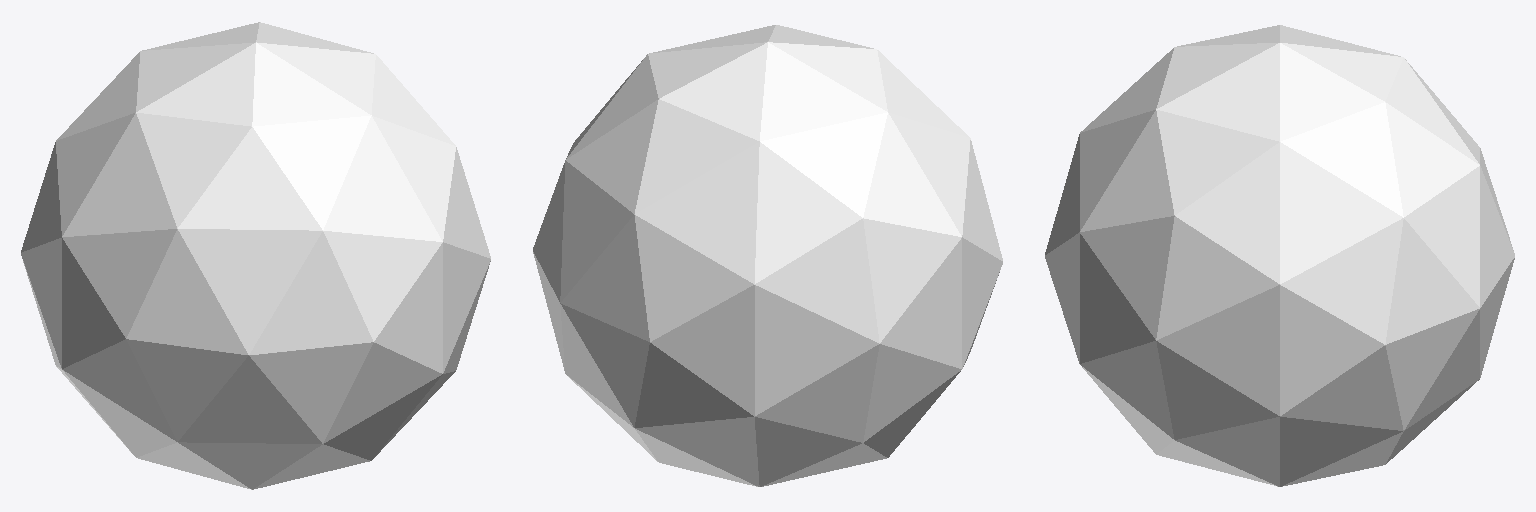
robot.urdf — ico_sphere1.urdf:
<?xml version="1.0" ?>
<robot name="ico_sphere1.urdf">
  <link name="baseLink">
    <contact>
    	<friction_anchor/>
    	   <lateral_friction value="0.5"/>
        <rolling_friction value="0.005"/>
        <spinning_friction value="0.005"/>
    </contact>
    <inertial>
      <origin rpy="0 0 0" xyz="0 0 0"/>
       <mass value="1"/>
       <inertia ixx="1" ixy="0" ixz="0" iyy="1.3" iyz="0" izz="0.5"/>
    </inertial>
    <visual>
      <origin rpy="0 0 0" xyz="0 0 0"/>
      <geometry>
	<mesh filename="ico_sphere.obj" scale="1 1 1"/>
      </geometry>
       <material name="white">
        <color rgba="1 1 1 1"/>
      </material>
    </visual>
    <collision>
      <origin rpy="0 0 0" xyz="0 0 0"/>
      <geometry>
	 <mesh filename="ico_sphere.obj" scale="1 1 1"/>
      </geometry>
    </collision>
  </link>
</robot>

--- What the picture shows (computed from the rendered views, not written in the file) ---
The picture shows the robot from 3 angles, left to right: view 1: azimuth 30°, elevation 25°; view 2: azimuth 150°, elevation 25°; view 3: azimuth 270°, elevation 25°; orthographic projection.
Model ico_sphere1.urdf with 1 links and 0 joints (none), rooted at baseLink, posed every joint at zero.
Visible links, largest first — view 1: baseLink; view 2: baseLink; view 3: baseLink.
Link boxes in pixels (x1,y1,x2,y2): baseLink: (21,22,490,489); baseLink: (533,25,1002,486); baseLink: (1045,25,1514,486).
Bounding box of the posed robot: 1.9 × 2 × 2 m (x, y, z).
Meshes: 1 distinct files referenced, 1 mesh visuals loaded (1 OBJ).